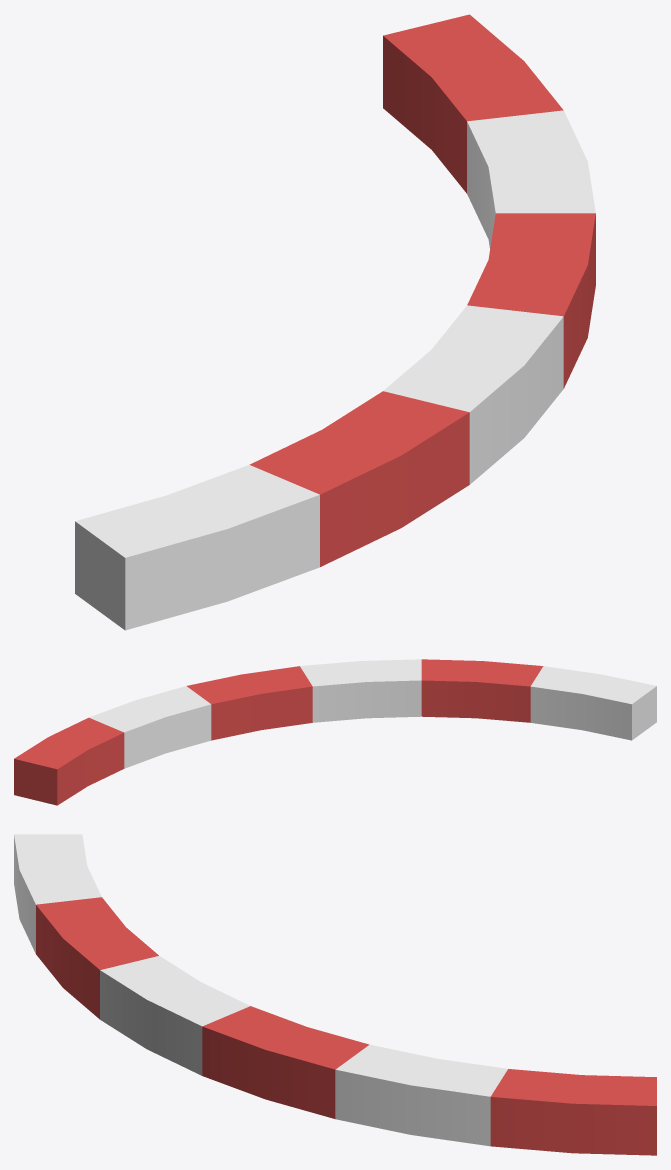
File: roadCornerLargeWallInner.obj
3 renders of one model, top to bottom at view 1: azimuth 30°, elevation 25°; view 2: azimuth 150°, elevation 25°; view 3: azimuth 270°, elevation 25°, orthographic. The views are drawn at different scales.
Parts seen in each view (by area): view 1: roadCornerLargeWallInner; view 2: roadCornerLargeWallInner; view 3: roadCornerLargeWallInner.
Part boxes in pixels (x1,y1,x2,y2): roadCornerLargeWallInner: (75, 14, 595, 630); roadCornerLargeWallInner: (14, 659, 656, 805); roadCornerLargeWallInner: (14, 834, 656, 1155).
Size of the model in its own units: 0.47 by 0.04 by 0.47.
